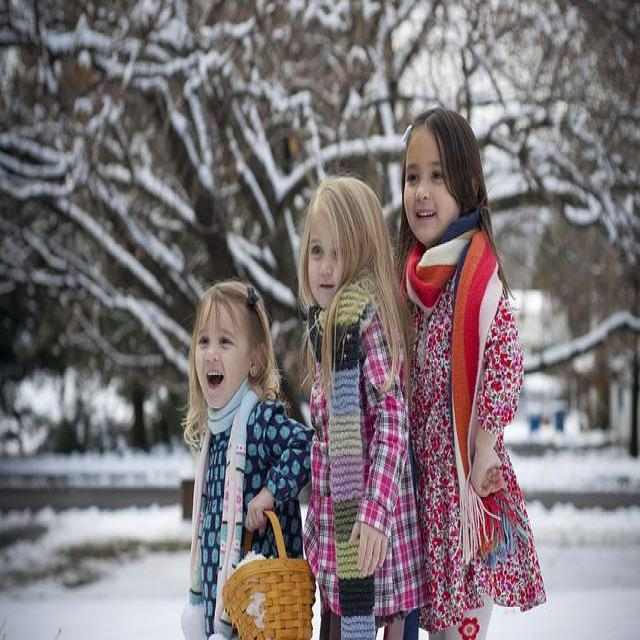child: (395, 105, 545, 640), (297, 173, 427, 640), (180, 275, 315, 640)
